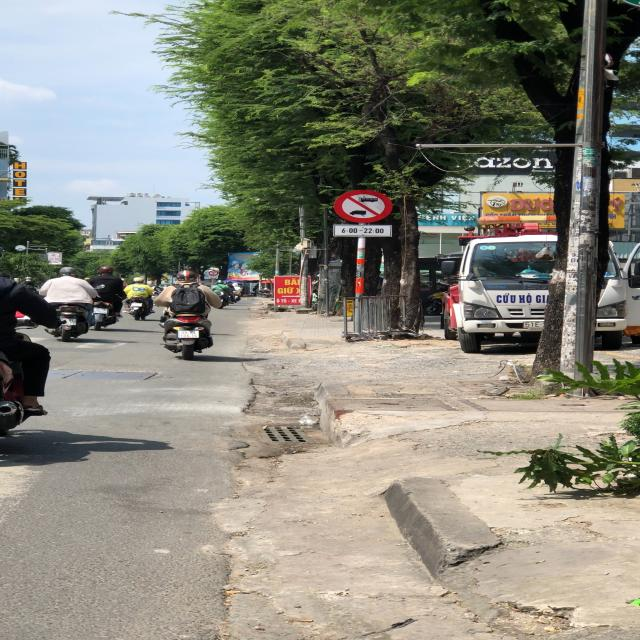Bien bao cam xe oto khach va xe oto tai: (325, 186, 398, 224)
